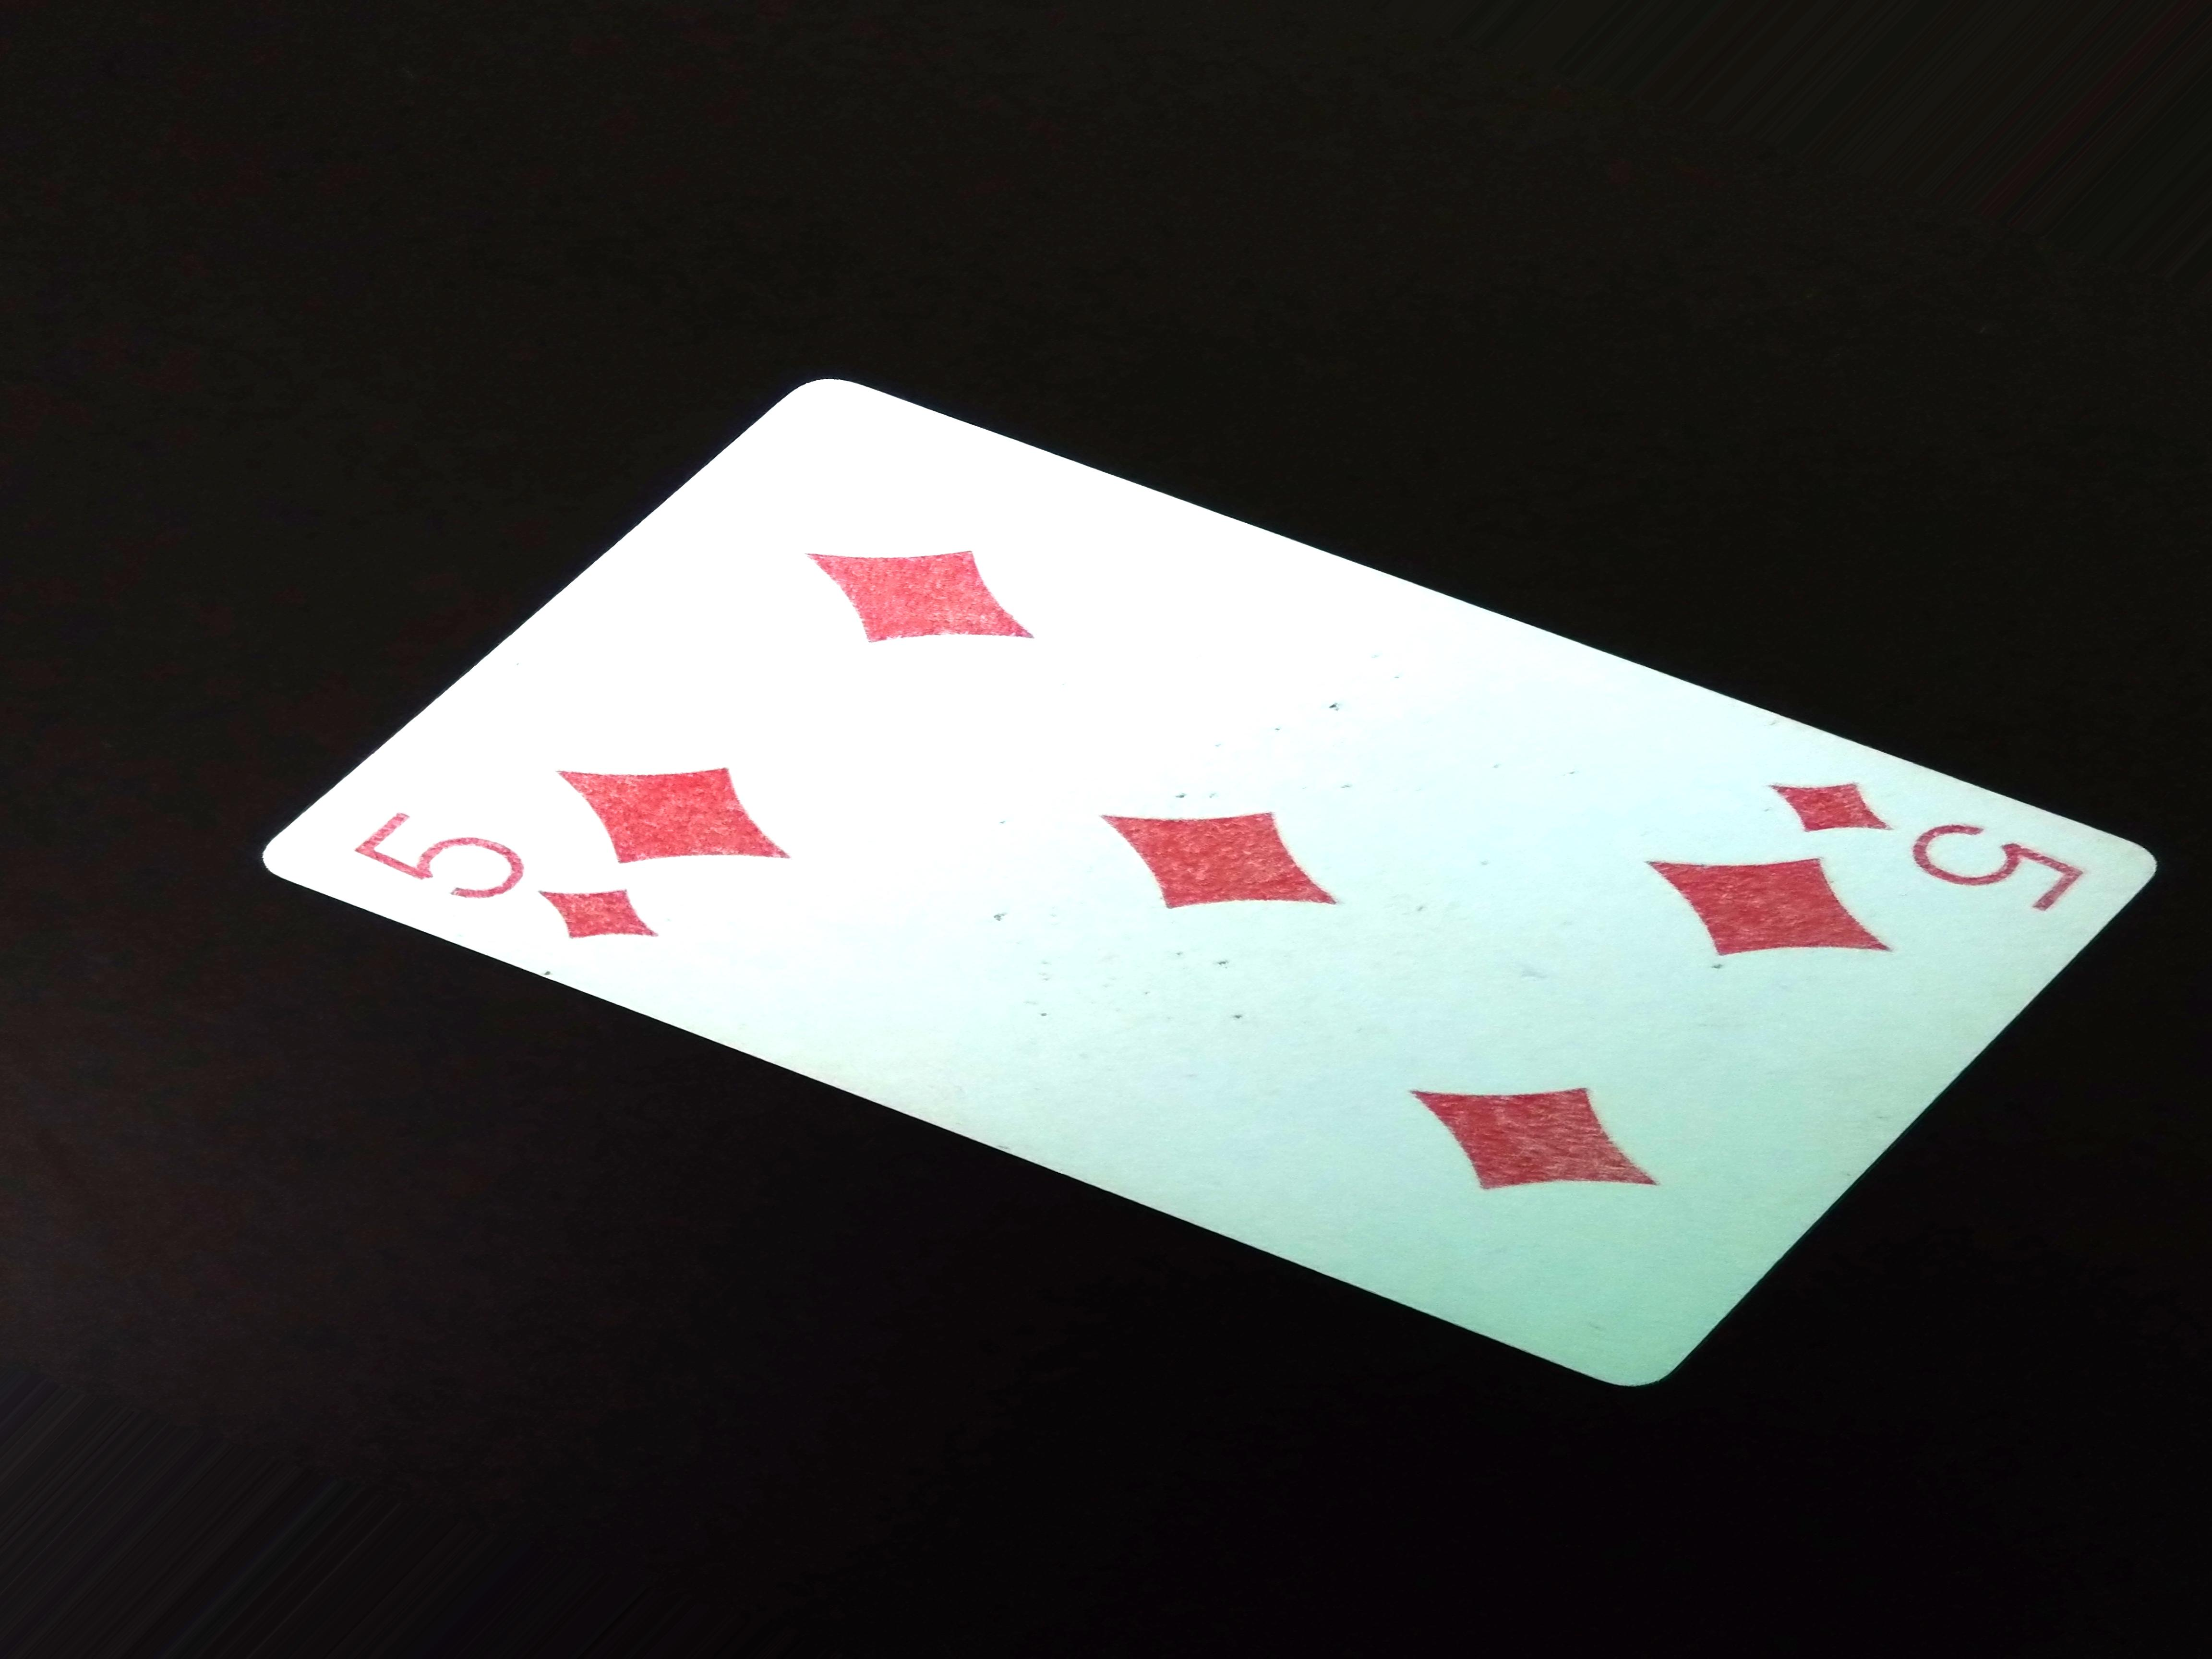5D: (350, 800, 688, 958)
